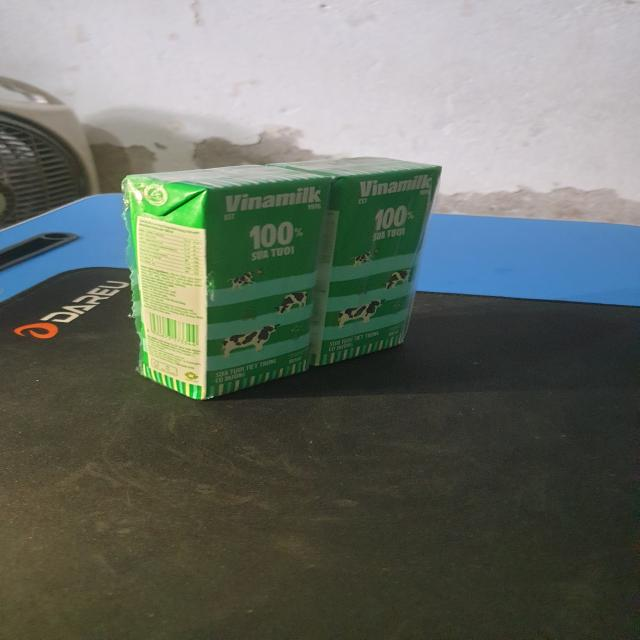Vina: (128, 163, 334, 401), (269, 155, 441, 367)
